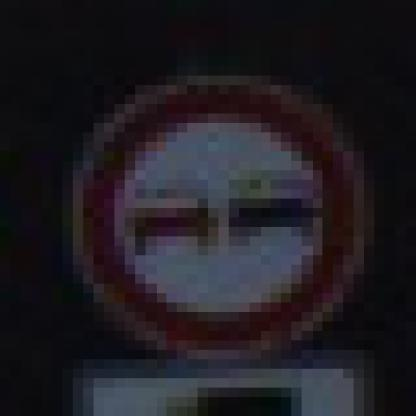No Overtaking: (63, 58, 365, 360)
